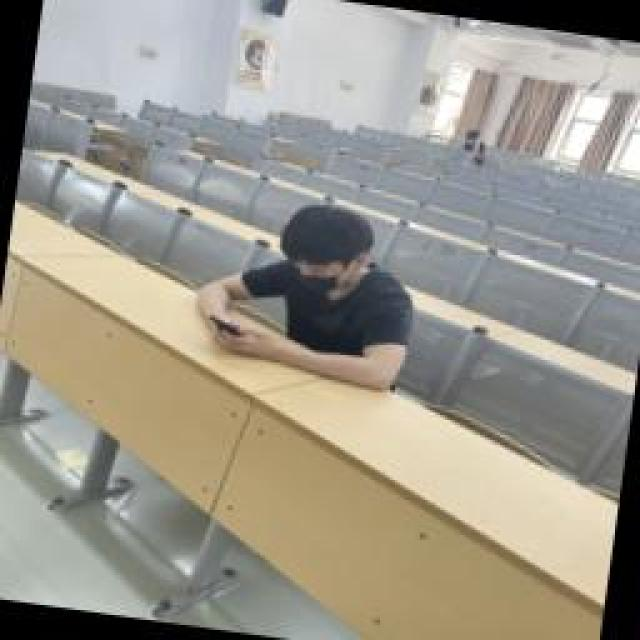phone: (187, 190, 425, 392)
study: (460, 128, 485, 158)
